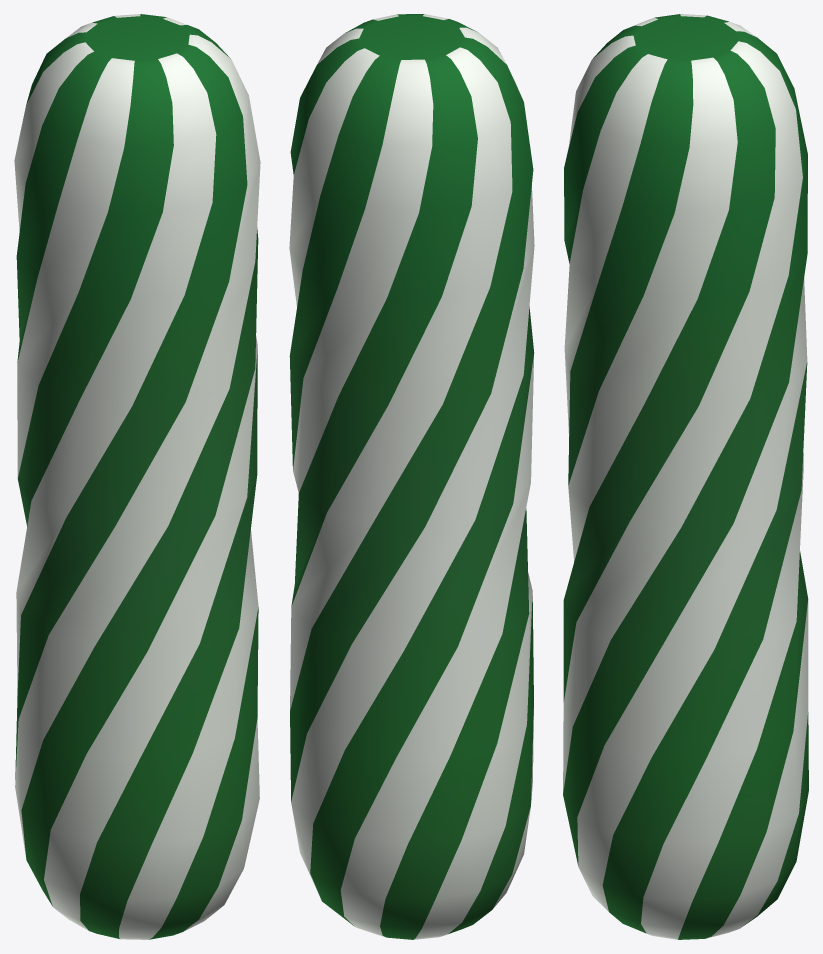
Rendered from candy_hard_27.fbx.
3 renders of one model, left to right at view 1: azimuth 30°, elevation 25°; view 2: azimuth 150°, elevation 25°; view 3: azimuth 270°, elevation 25°, orthographic.
Visible parts, largest first — view 1: c_h_27; view 2: c_h_27; view 3: c_h_27.
Boxes of the visible parts, box(x1,y1,x2,y2) form: c_h_27: box(14, 14, 260, 939); c_h_27: box(289, 14, 534, 939); c_h_27: box(563, 14, 808, 939).
Size of the model in its own units: 75.72 by 299 by 75.97.
